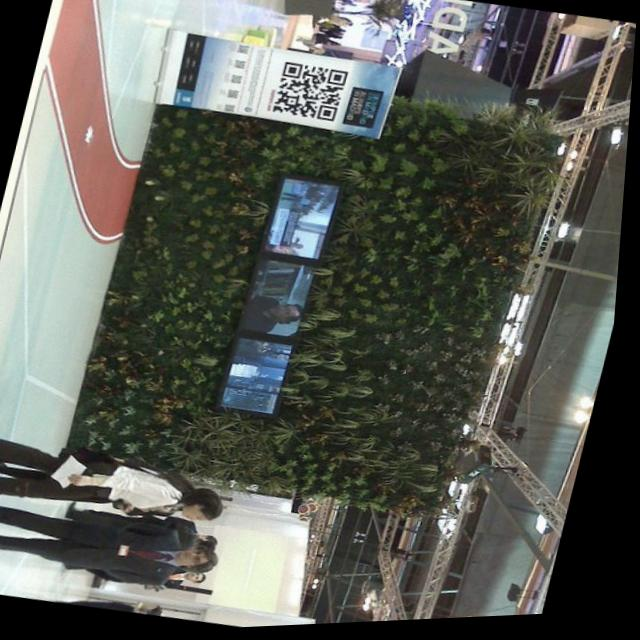qrcode: (275, 63, 350, 127), (232, 78, 243, 86), (229, 93, 240, 101), (239, 49, 249, 57), (235, 64, 246, 71), (226, 108, 236, 115)
